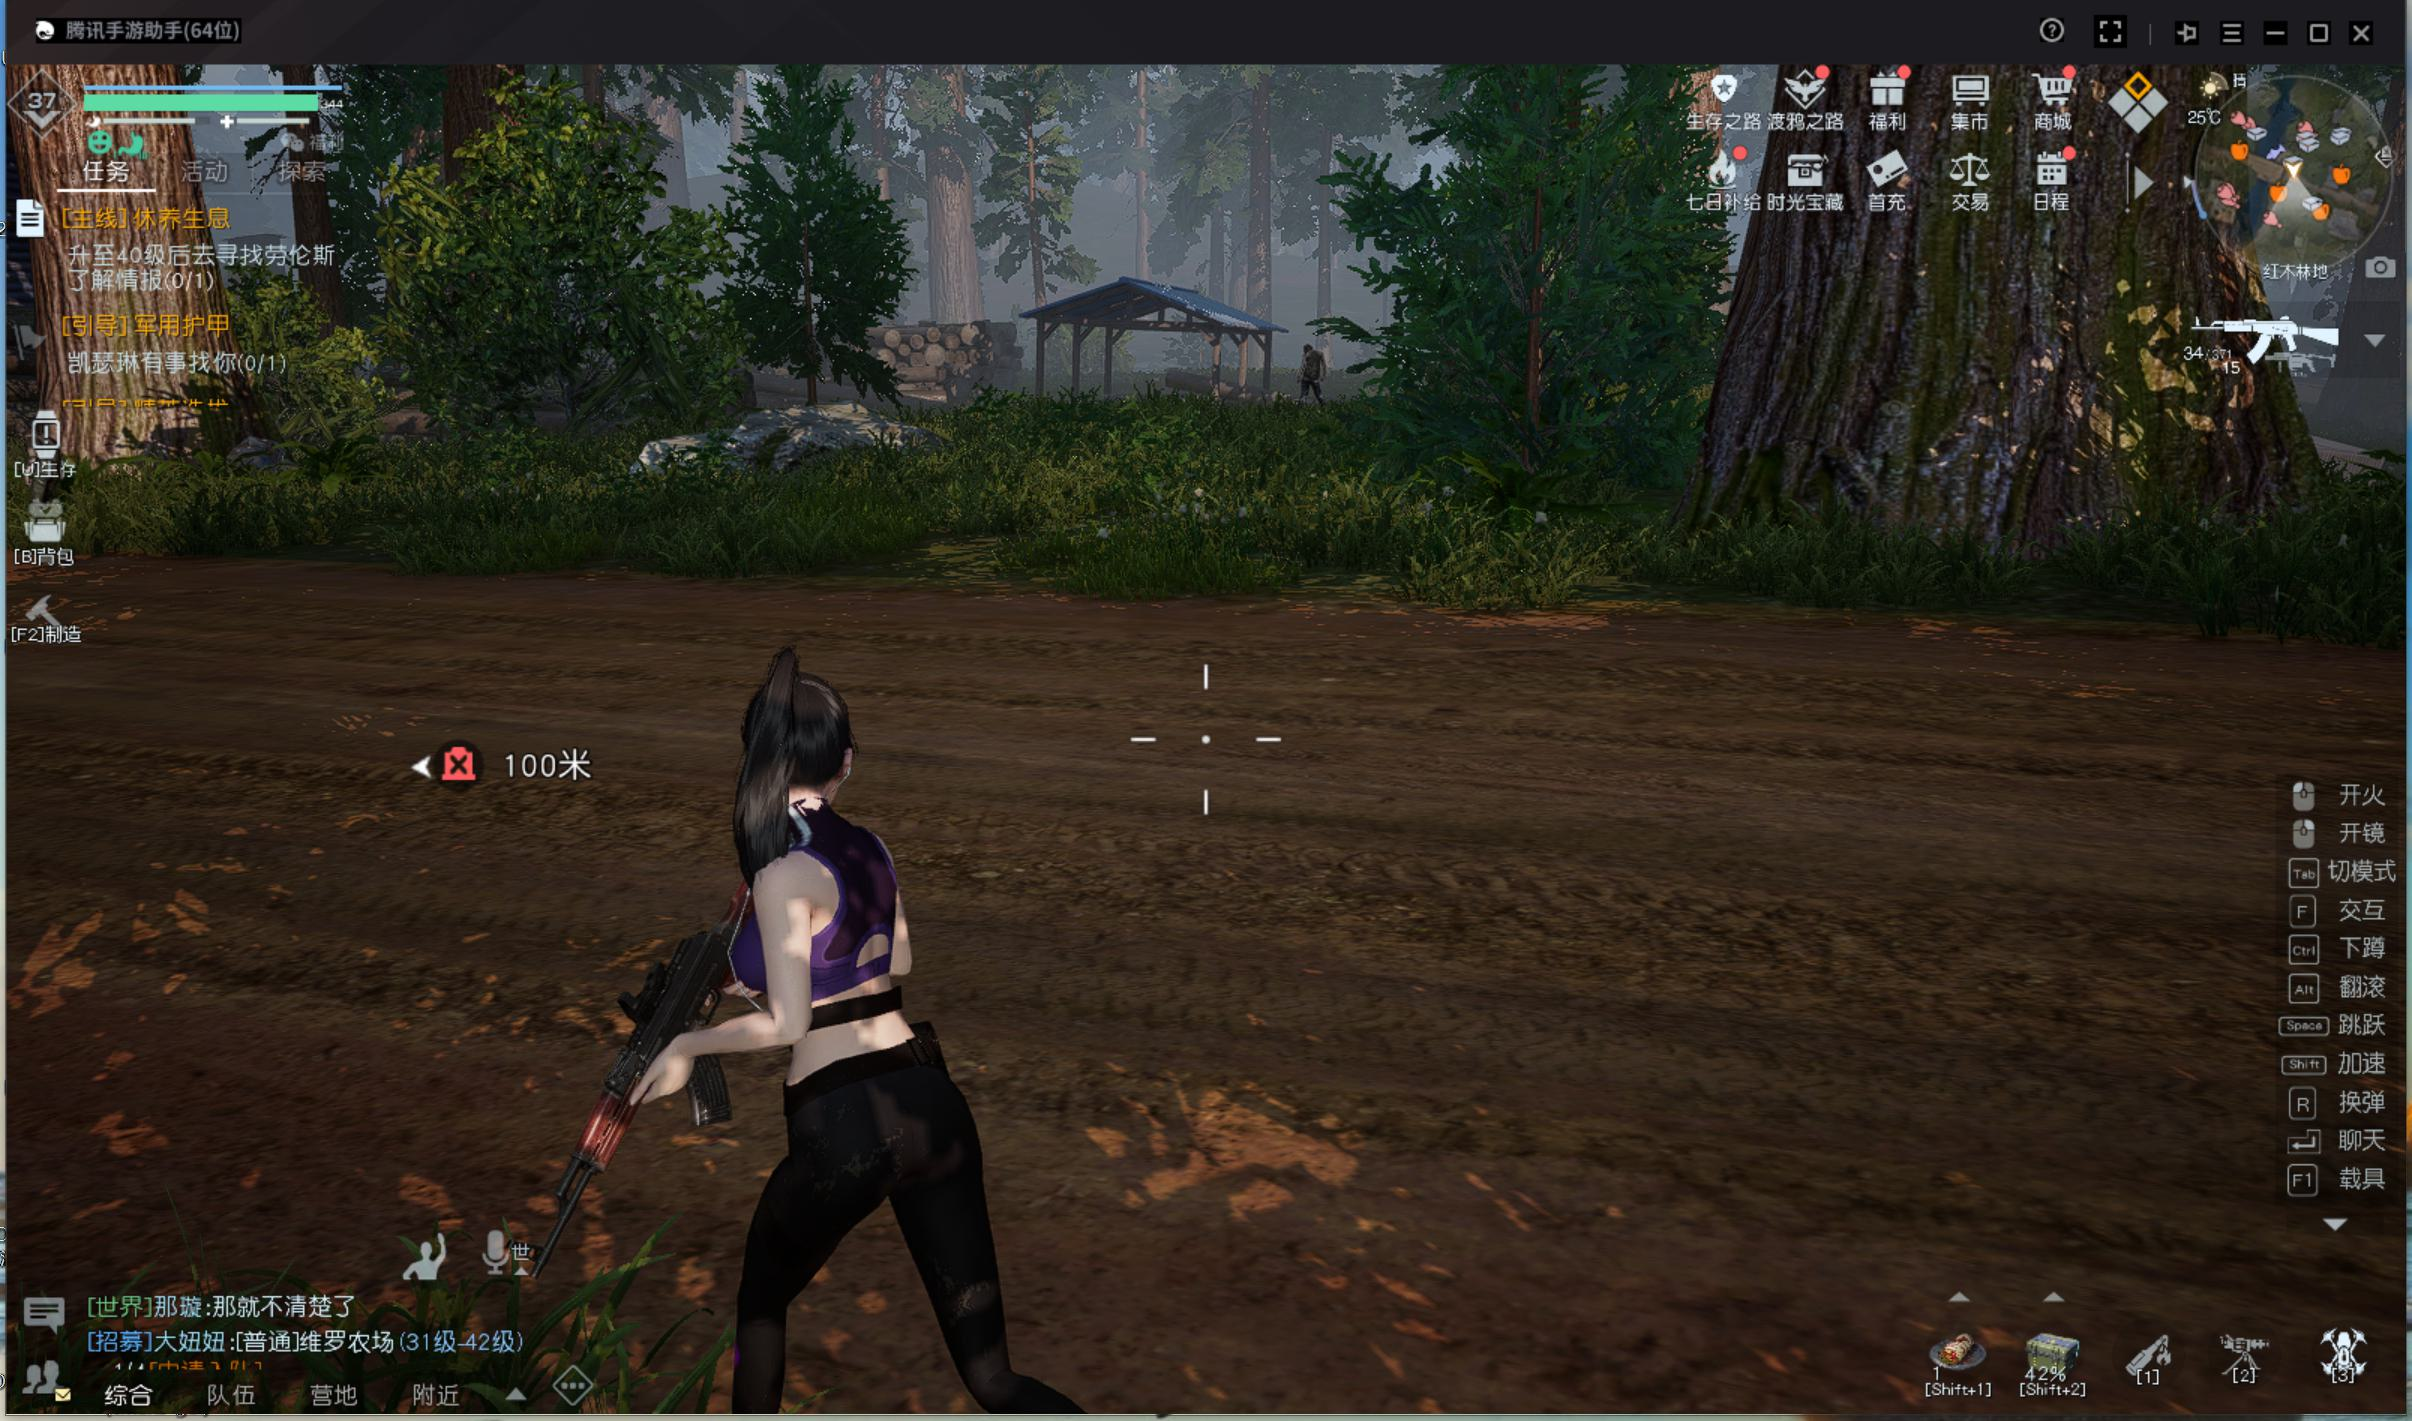tree: (19, 73, 284, 469)
